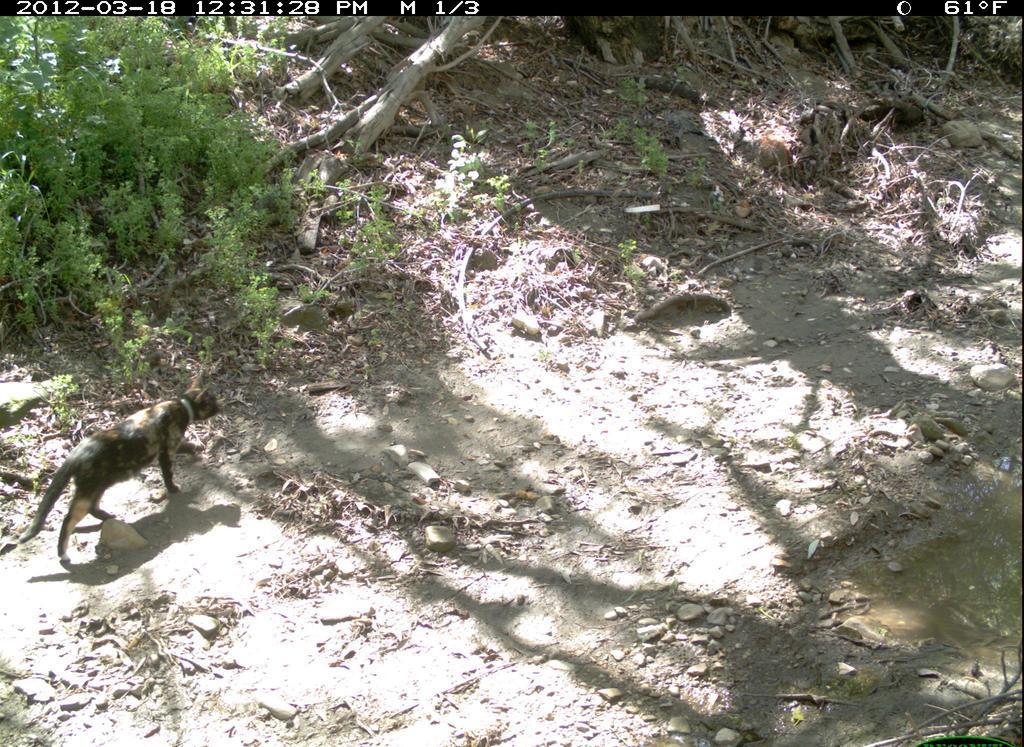cat: (11, 361, 226, 570)
